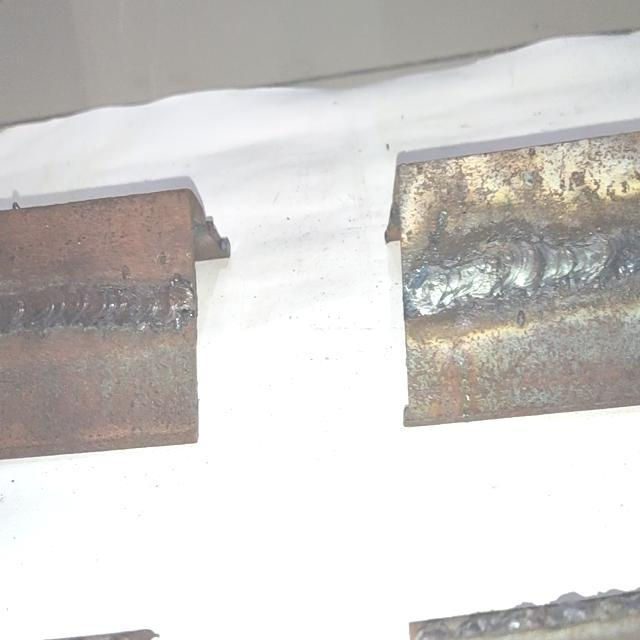Defect: (593, 219, 640, 296)
Welding Line: (407, 228, 640, 309), (0, 279, 191, 333)
Workpiece: (397, 138, 640, 427), (0, 180, 197, 456)
